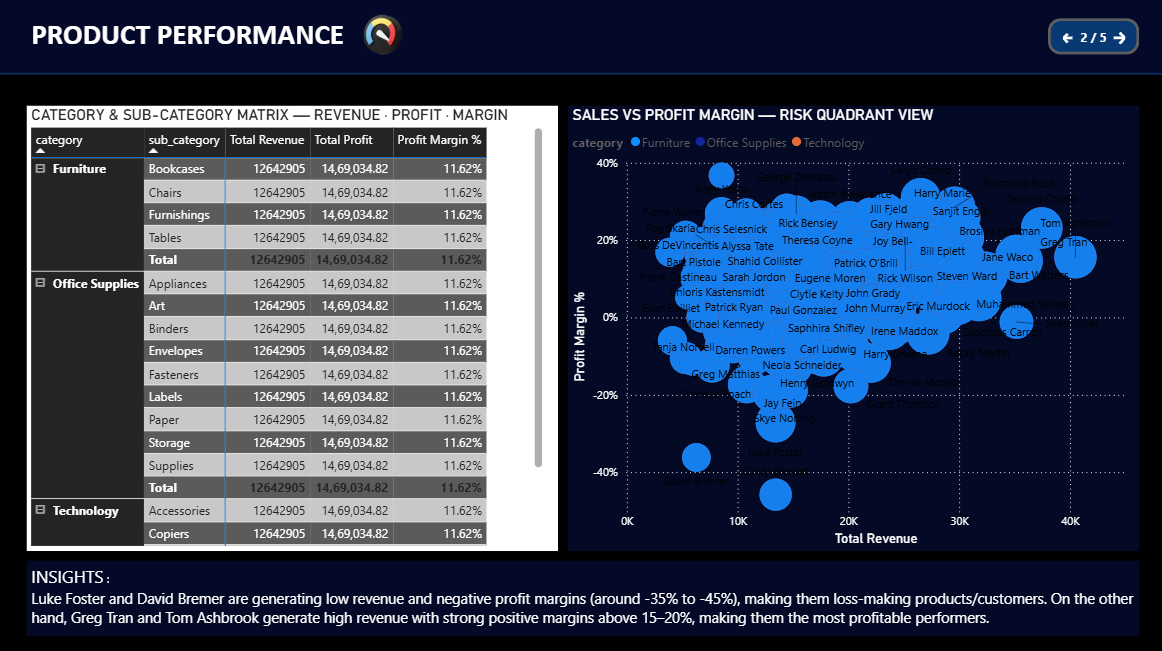

What the dashboard file says about the page in this screenshot:
{"tool":"powerbi","page":{"name":"Product Performance","canvas":[1280,720],"ordinal":1},"visuals":[{"type":"shape","box":[0,0,1280.3,85.1],"z":0},{"type":"textbox","box":[31.6,16.5,583.2,56.3],"z":1000},{"type":"actionButton","box":[1152.7,23.3,100.2,39.8],"z":2000},{"type":"actionButton","box":[1165,35.7,28.8,19.2],"z":3000},{"type":"actionButton","box":[1219.9,34.3,24.7,22],"z":4000},{"type":"pivotTable","title":"CATEGORY & SUB-CATEGORY MATRIX  —  REVENUE · PROFIT · MARGIN","fields":{"Rows":["dim_product.category","dim_product.sub_category"],"Values":["customer_rfm.Total Revenue","customer_rfm.Total Profit","customer_rfm.Profit Margin %"]},"box":[31.6,119.4,583.2,488.5],"z":5000},{"type":"scatterChart","title":"SALES VS PROFIT MARGIN  —  RISK QUADRANT VIEW","fields":{"X":["customer_rfm.Total Revenue"],"Y":["customer_rfm.Profit Margin %"],"Category":["fact_sales.customer_name"],"Size":["customer_rfm.Units Sold"],"Series":["dim_product.category"]},"box":[625.7,119.4,627.1,488.5],"z":6000},{"type":"textbox","box":[31.6,618.9,1221.3,82.3],"z":7000},{"type":"image","box":[360.9,19.2,124.9,43.9],"z":8000}]}

Visuals, with their boxes in screenshot pixels (x1, y1, x2, y2), scaled from the page's 1280x720 canvas onto the 1162x651 screenshot:
shape: rect(0, 0, 1161, 77)
textbox: rect(29, 15, 558, 66)
actionButton: rect(1046, 21, 1137, 57)
actionButton: rect(1058, 32, 1084, 50)
actionButton: rect(1107, 31, 1130, 51)
"CATEGORY & SUB-CATEGORY MATRIX  —  REVENUE · PROFIT · MARGIN" pivotTable: rect(29, 108, 558, 550)
"SALES VS PROFIT MARGIN  —  RISK QUADRANT VIEW" scatterChart: rect(568, 108, 1137, 550)
textbox: rect(29, 560, 1137, 634)
image: rect(328, 17, 441, 57)
